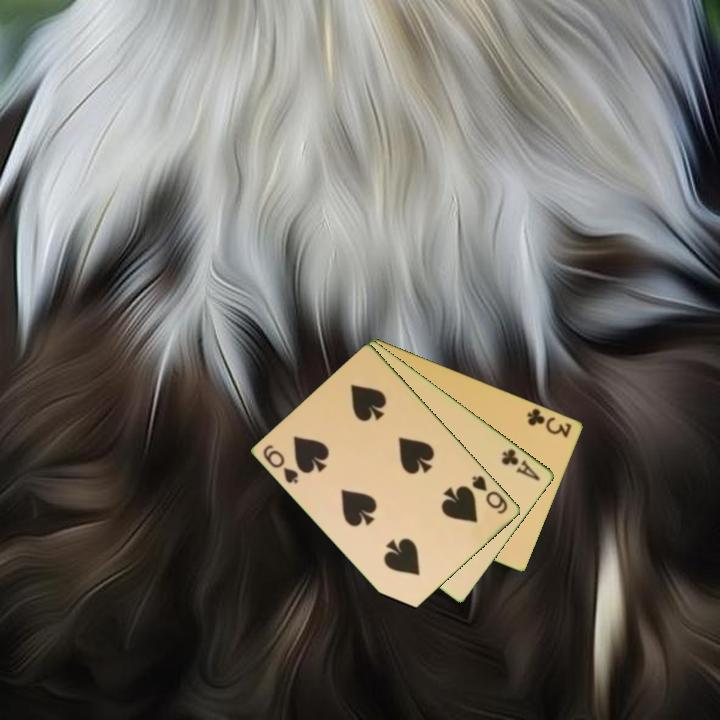3c: (524, 405, 575, 440)
6s: (260, 441, 302, 487), (469, 472, 511, 517)
Ac: (498, 445, 543, 484)
